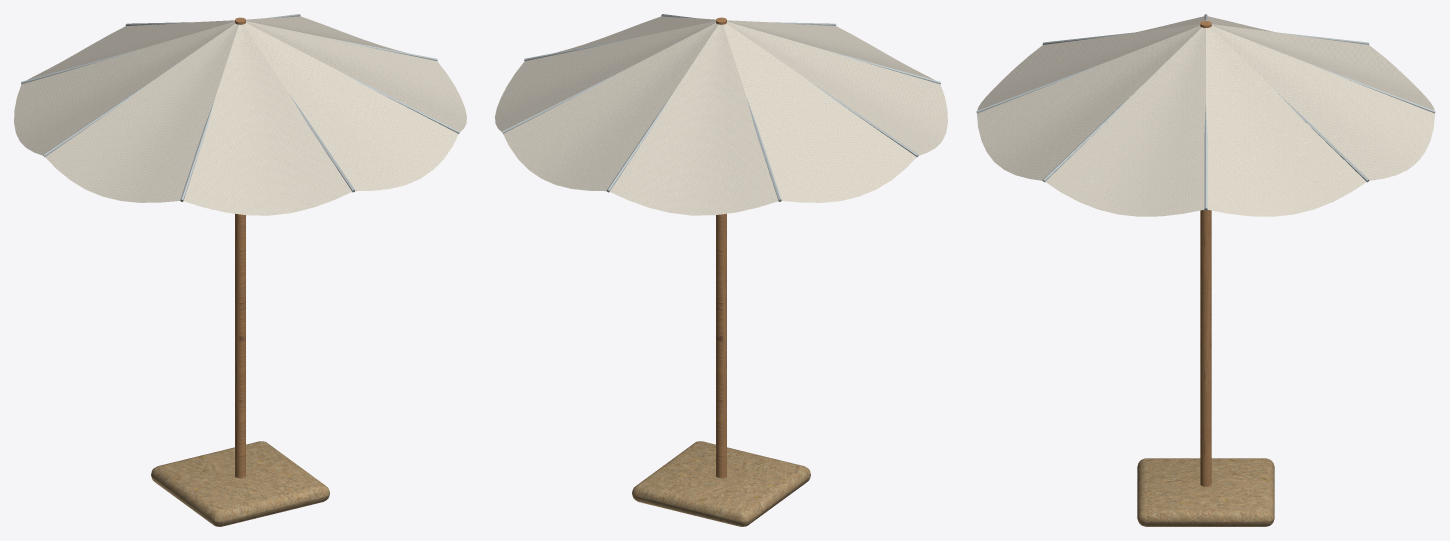
The model's file is sombrilla_compacta_base.glb.
3 renders of one model, left to right at view 1: azimuth 30°, elevation 25°; view 2: azimuth 150°, elevation 25°; view 3: azimuth 270°, elevation 25°, orthographic.
Parts seen in each view (by area): view 1: sombrilla_compacta_base; view 2: sombrilla_compacta_base; view 3: sombrilla_compacta_base.
Part boxes in pixels (bbox=[...]): sombrilla_compacta_base: bbox=[14, 14, 466, 526]; sombrilla_compacta_base: bbox=[495, 14, 947, 526]; sombrilla_compacta_base: bbox=[976, 14, 1435, 526].
Bounding box in the file's own units: 2.01 × 2.3 × 2.01.
Materials: 4 (3 with a texture image).
